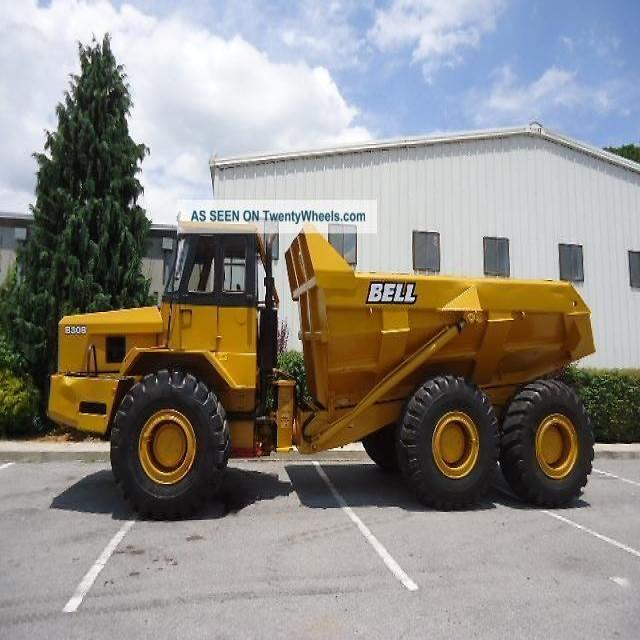dump_truck: (60, 216, 612, 515)
